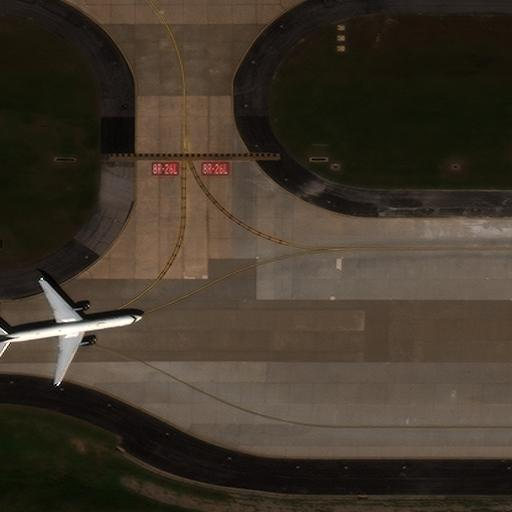Large Civil Transport: (0, 275, 146, 385)
